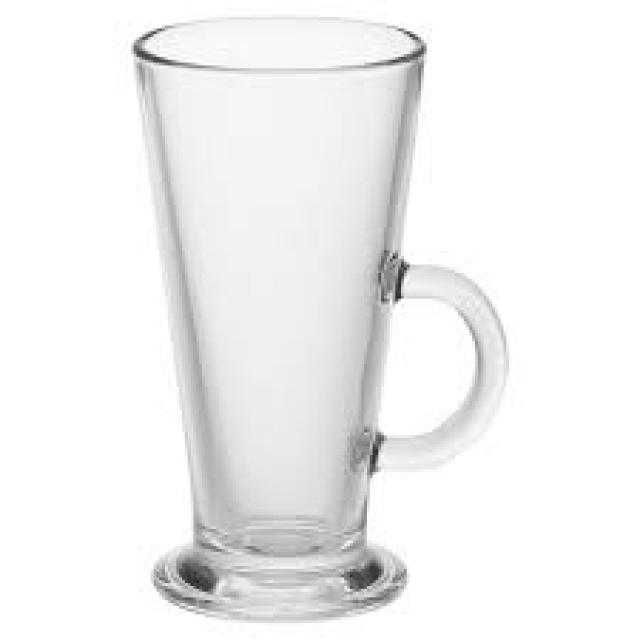glass: (131, 14, 503, 617)
